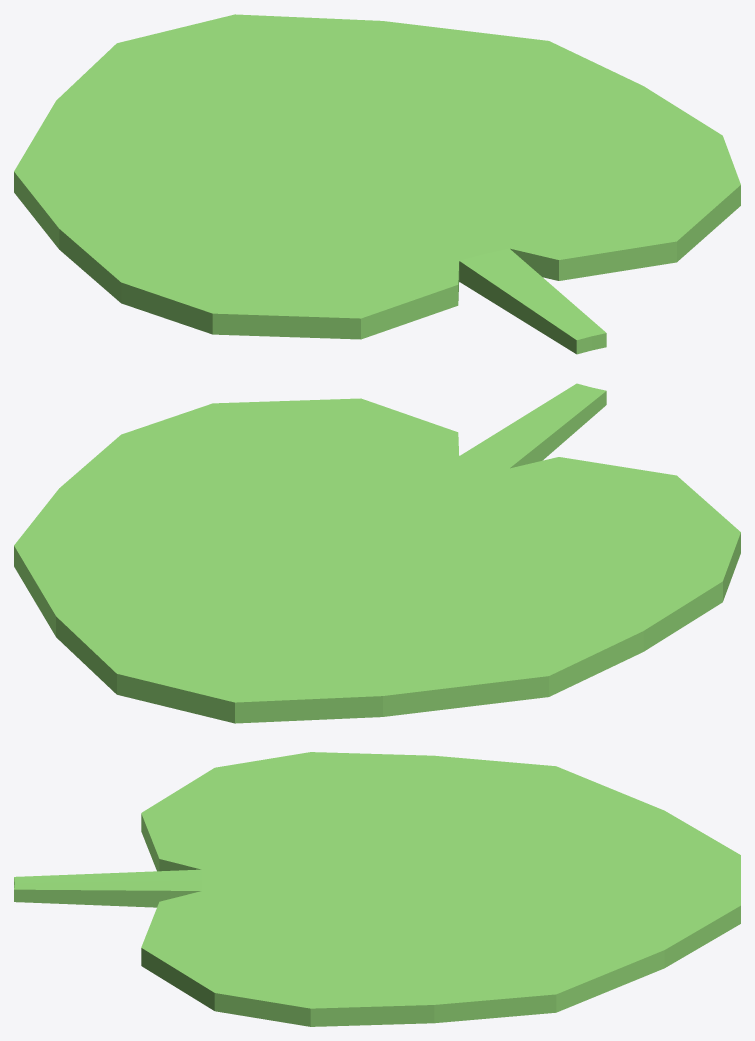
Rendered from water_lily.fbx.
3 renders of one model, top to bottom at view 1: azimuth 30°, elevation 25°; view 2: azimuth 150°, elevation 25°; view 3: azimuth 270°, elevation 25°, orthographic. The views are drawn at different scales.
Parts seen in each view (by area): view 1: Water Lily; view 2: Water Lily; view 3: Water Lily.
Boxes of the visible parts, x1=… form: Water Lily: x1=14, y1=14, x2=740, y2=354; Water Lily: x1=14, y1=383, x2=740, y2=723; Water Lily: x1=14, y1=752, x2=740, y2=1026.
Size of the model in its own units: 191 by 6.36 by 229.
